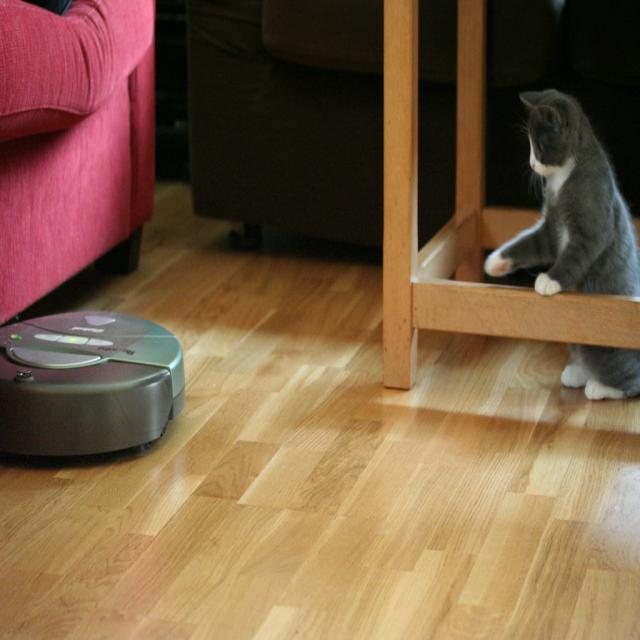Cat: (480, 82, 639, 408)
